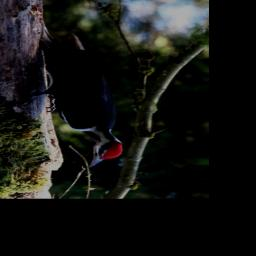Woodpecker: (15, 23, 124, 168)
